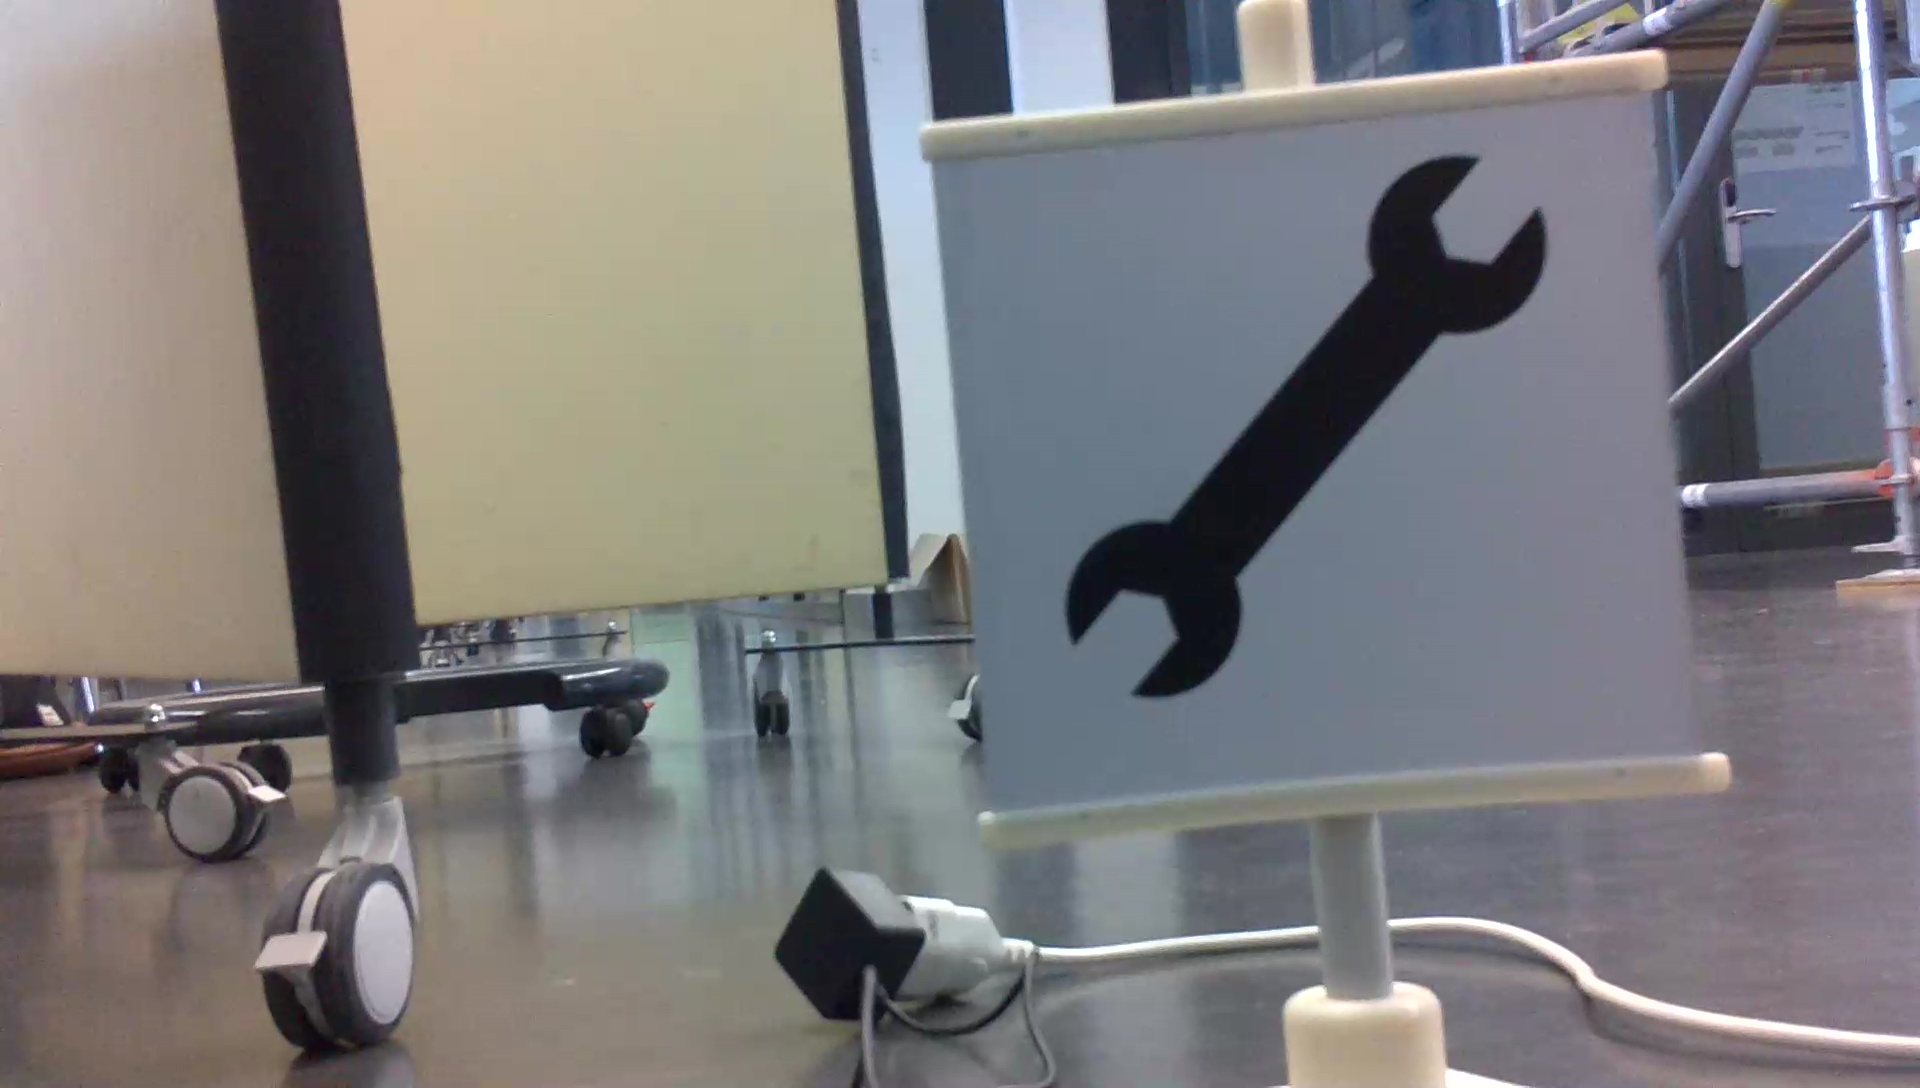wrench: (1058, 146, 1560, 706)
